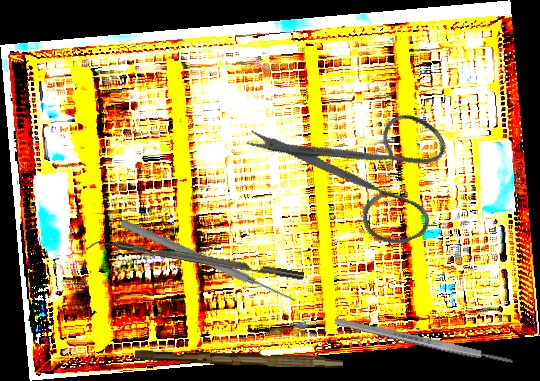Chopper: (85, 234, 305, 291)
Iris Scissors: (239, 63, 475, 286)
Pusher: (118, 217, 300, 307)
Scalpel Handle: (332, 315, 516, 368), (134, 349, 344, 368)
